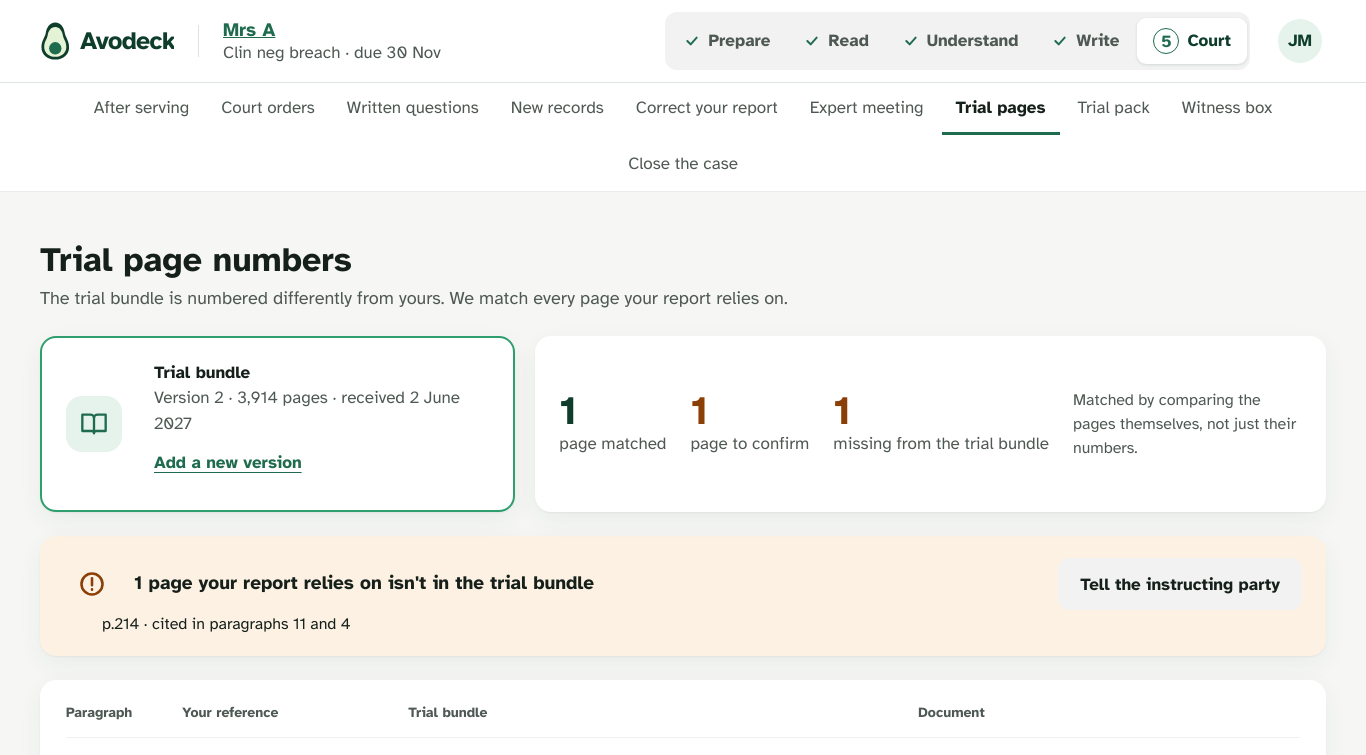
Test: telling the instructing party lists the missing pages to send
Click the button "Tell the instructing party". click: (1180, 584)
box: x1=1058 y1=558 x2=1302 y2=610
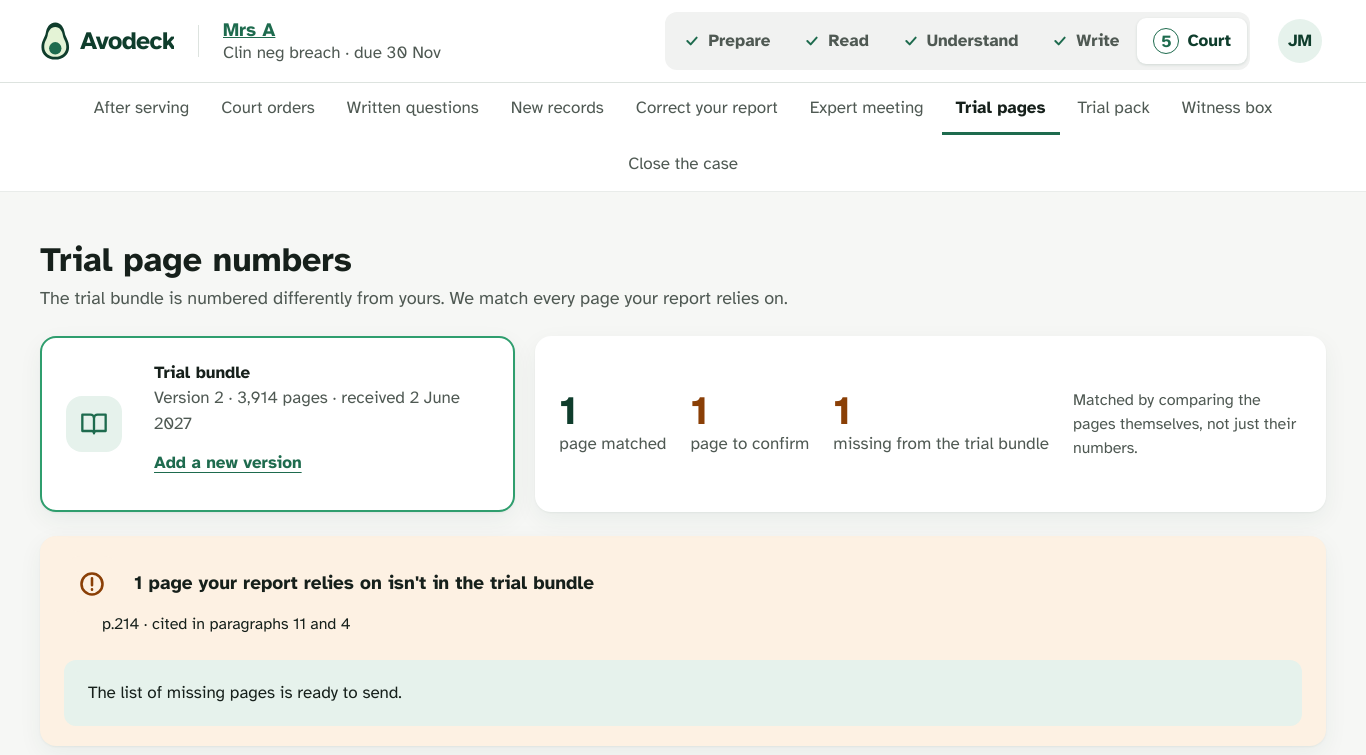
expect the text "The list of missing pages is ready to send." is shown: met, box x1=88 y1=682 x2=402 y2=703
